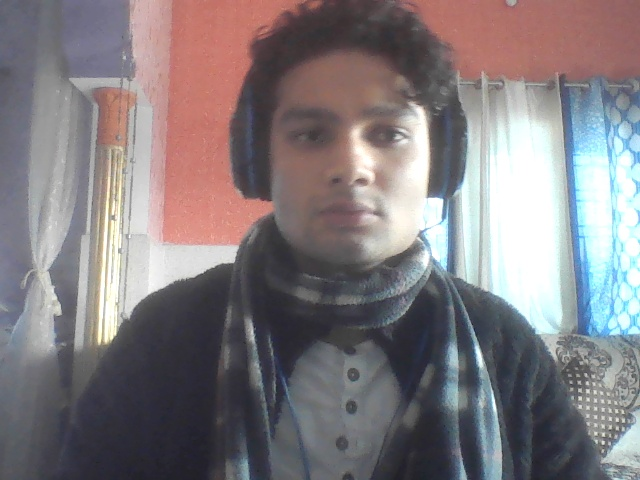real: (239, 0, 449, 297)
